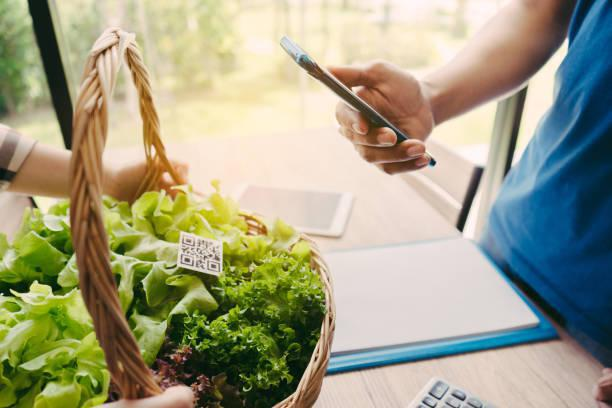Finder pattern: (180, 232, 198, 250), (179, 252, 197, 269), (206, 257, 223, 274)
